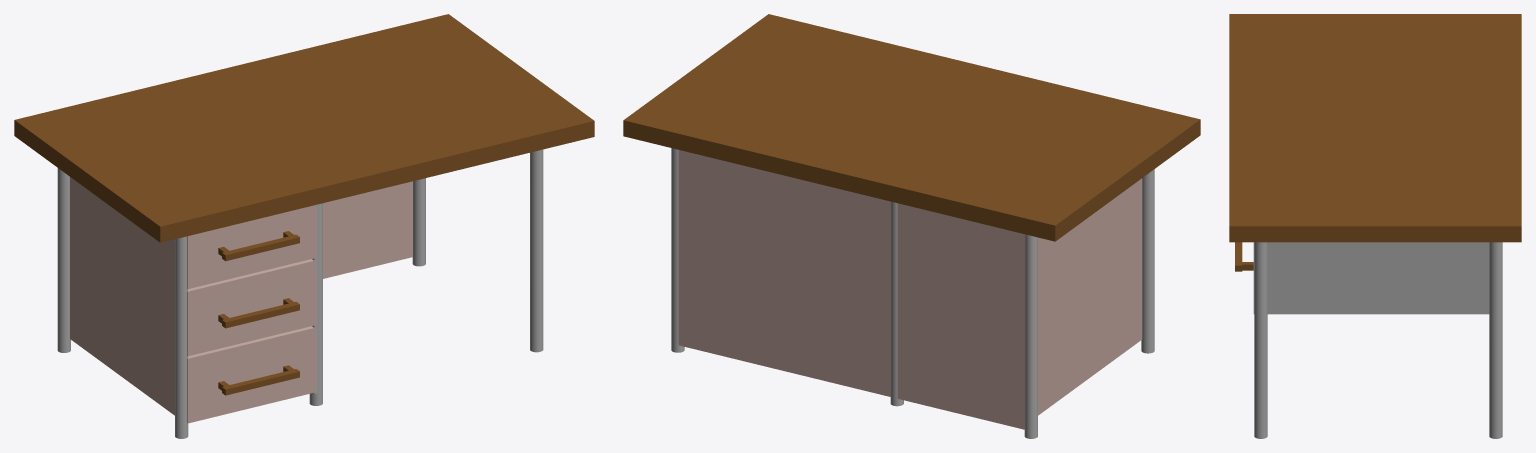
File: Desk.gltf
3 renders of one model, left to right at view 1: azimuth 30°, elevation 25°; view 2: azimuth 150°, elevation 25°; view 3: azimuth 270°, elevation 25°, orthographic.
Visible parts, largest first — view 1: node-0; view 2: node-0; view 3: node-0.
Part boxes in pixels (x1,y1,x2,y2): node-0: [14, 14, 594, 438]; node-0: [623, 14, 1200, 438]; node-0: [1229, 14, 1521, 438].
Size of the model in its own units: 1.43 by 0.7258 by 0.8351.
